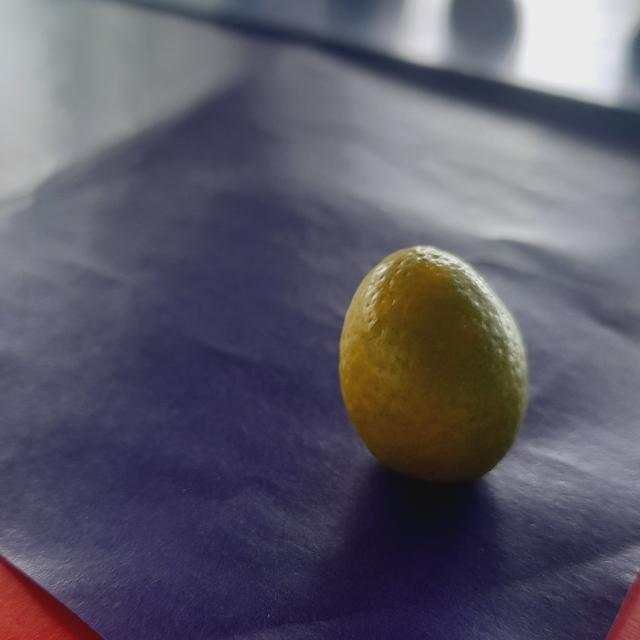greening: (340, 232, 542, 495)
